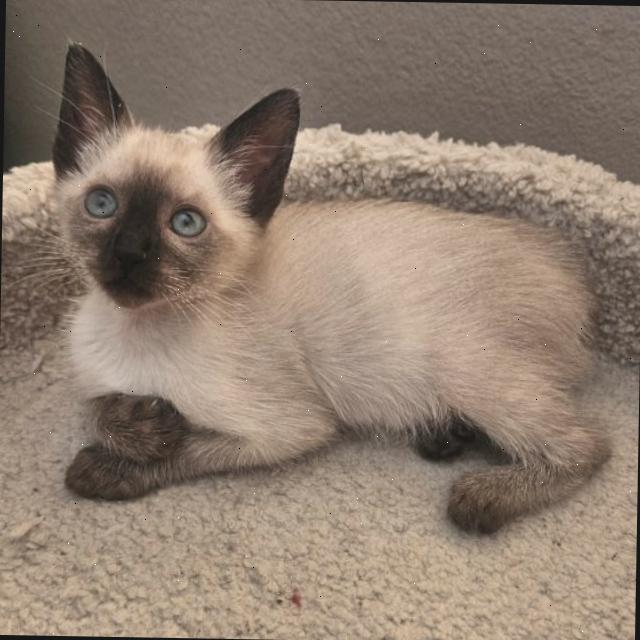siamese_cat: (11, 34, 323, 350)
